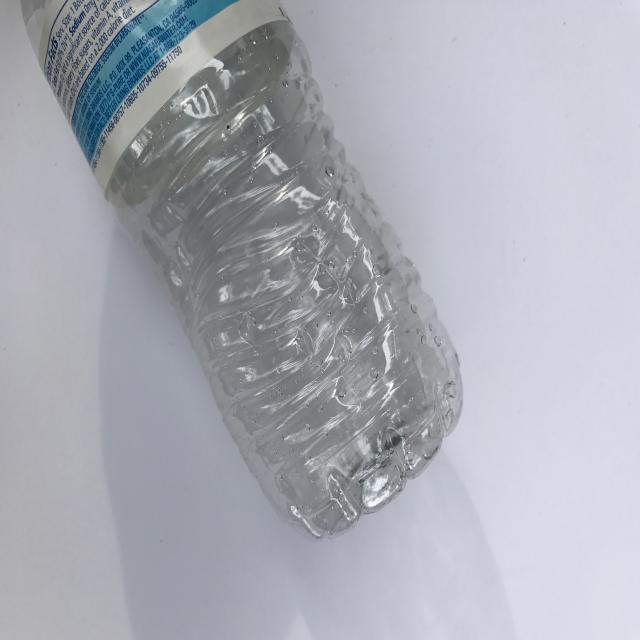plastic: (18, 0, 464, 540)
